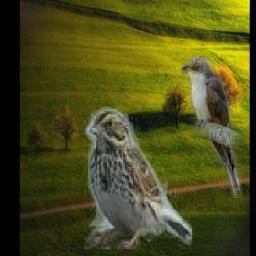Cuckoo: (181, 56, 242, 198)
Sparrow: (84, 107, 192, 249)
